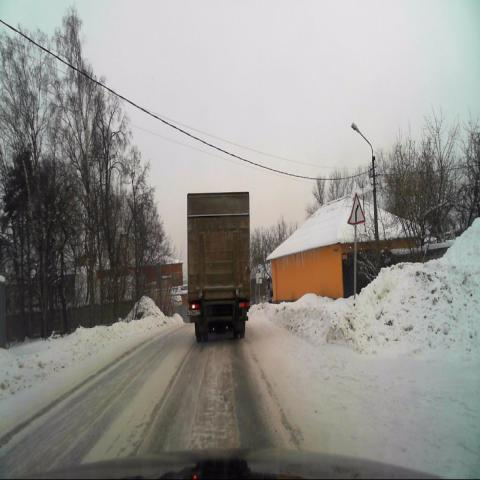1_11: (346, 192, 366, 225)
